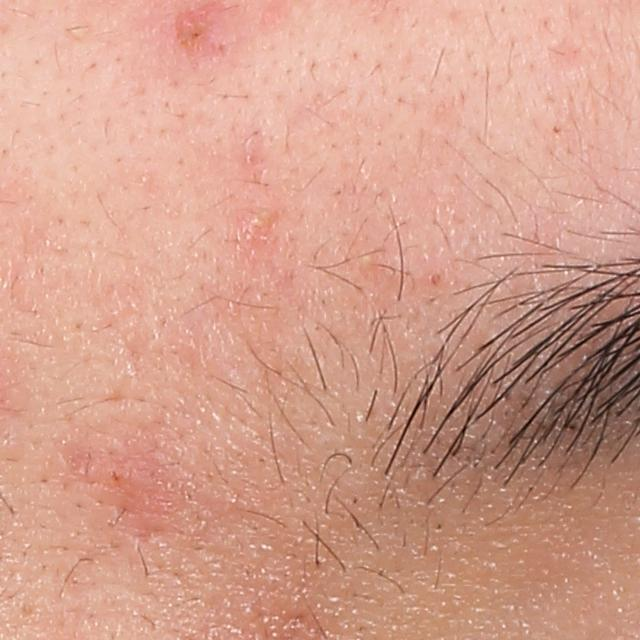comedo: (426, 267, 447, 287)
